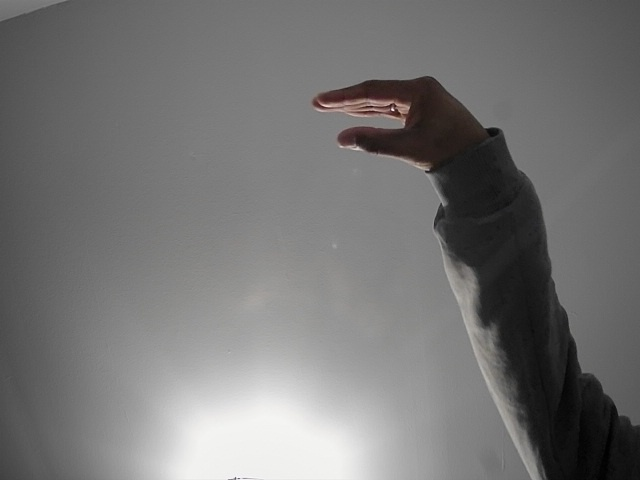No: (302, 50, 501, 190)
